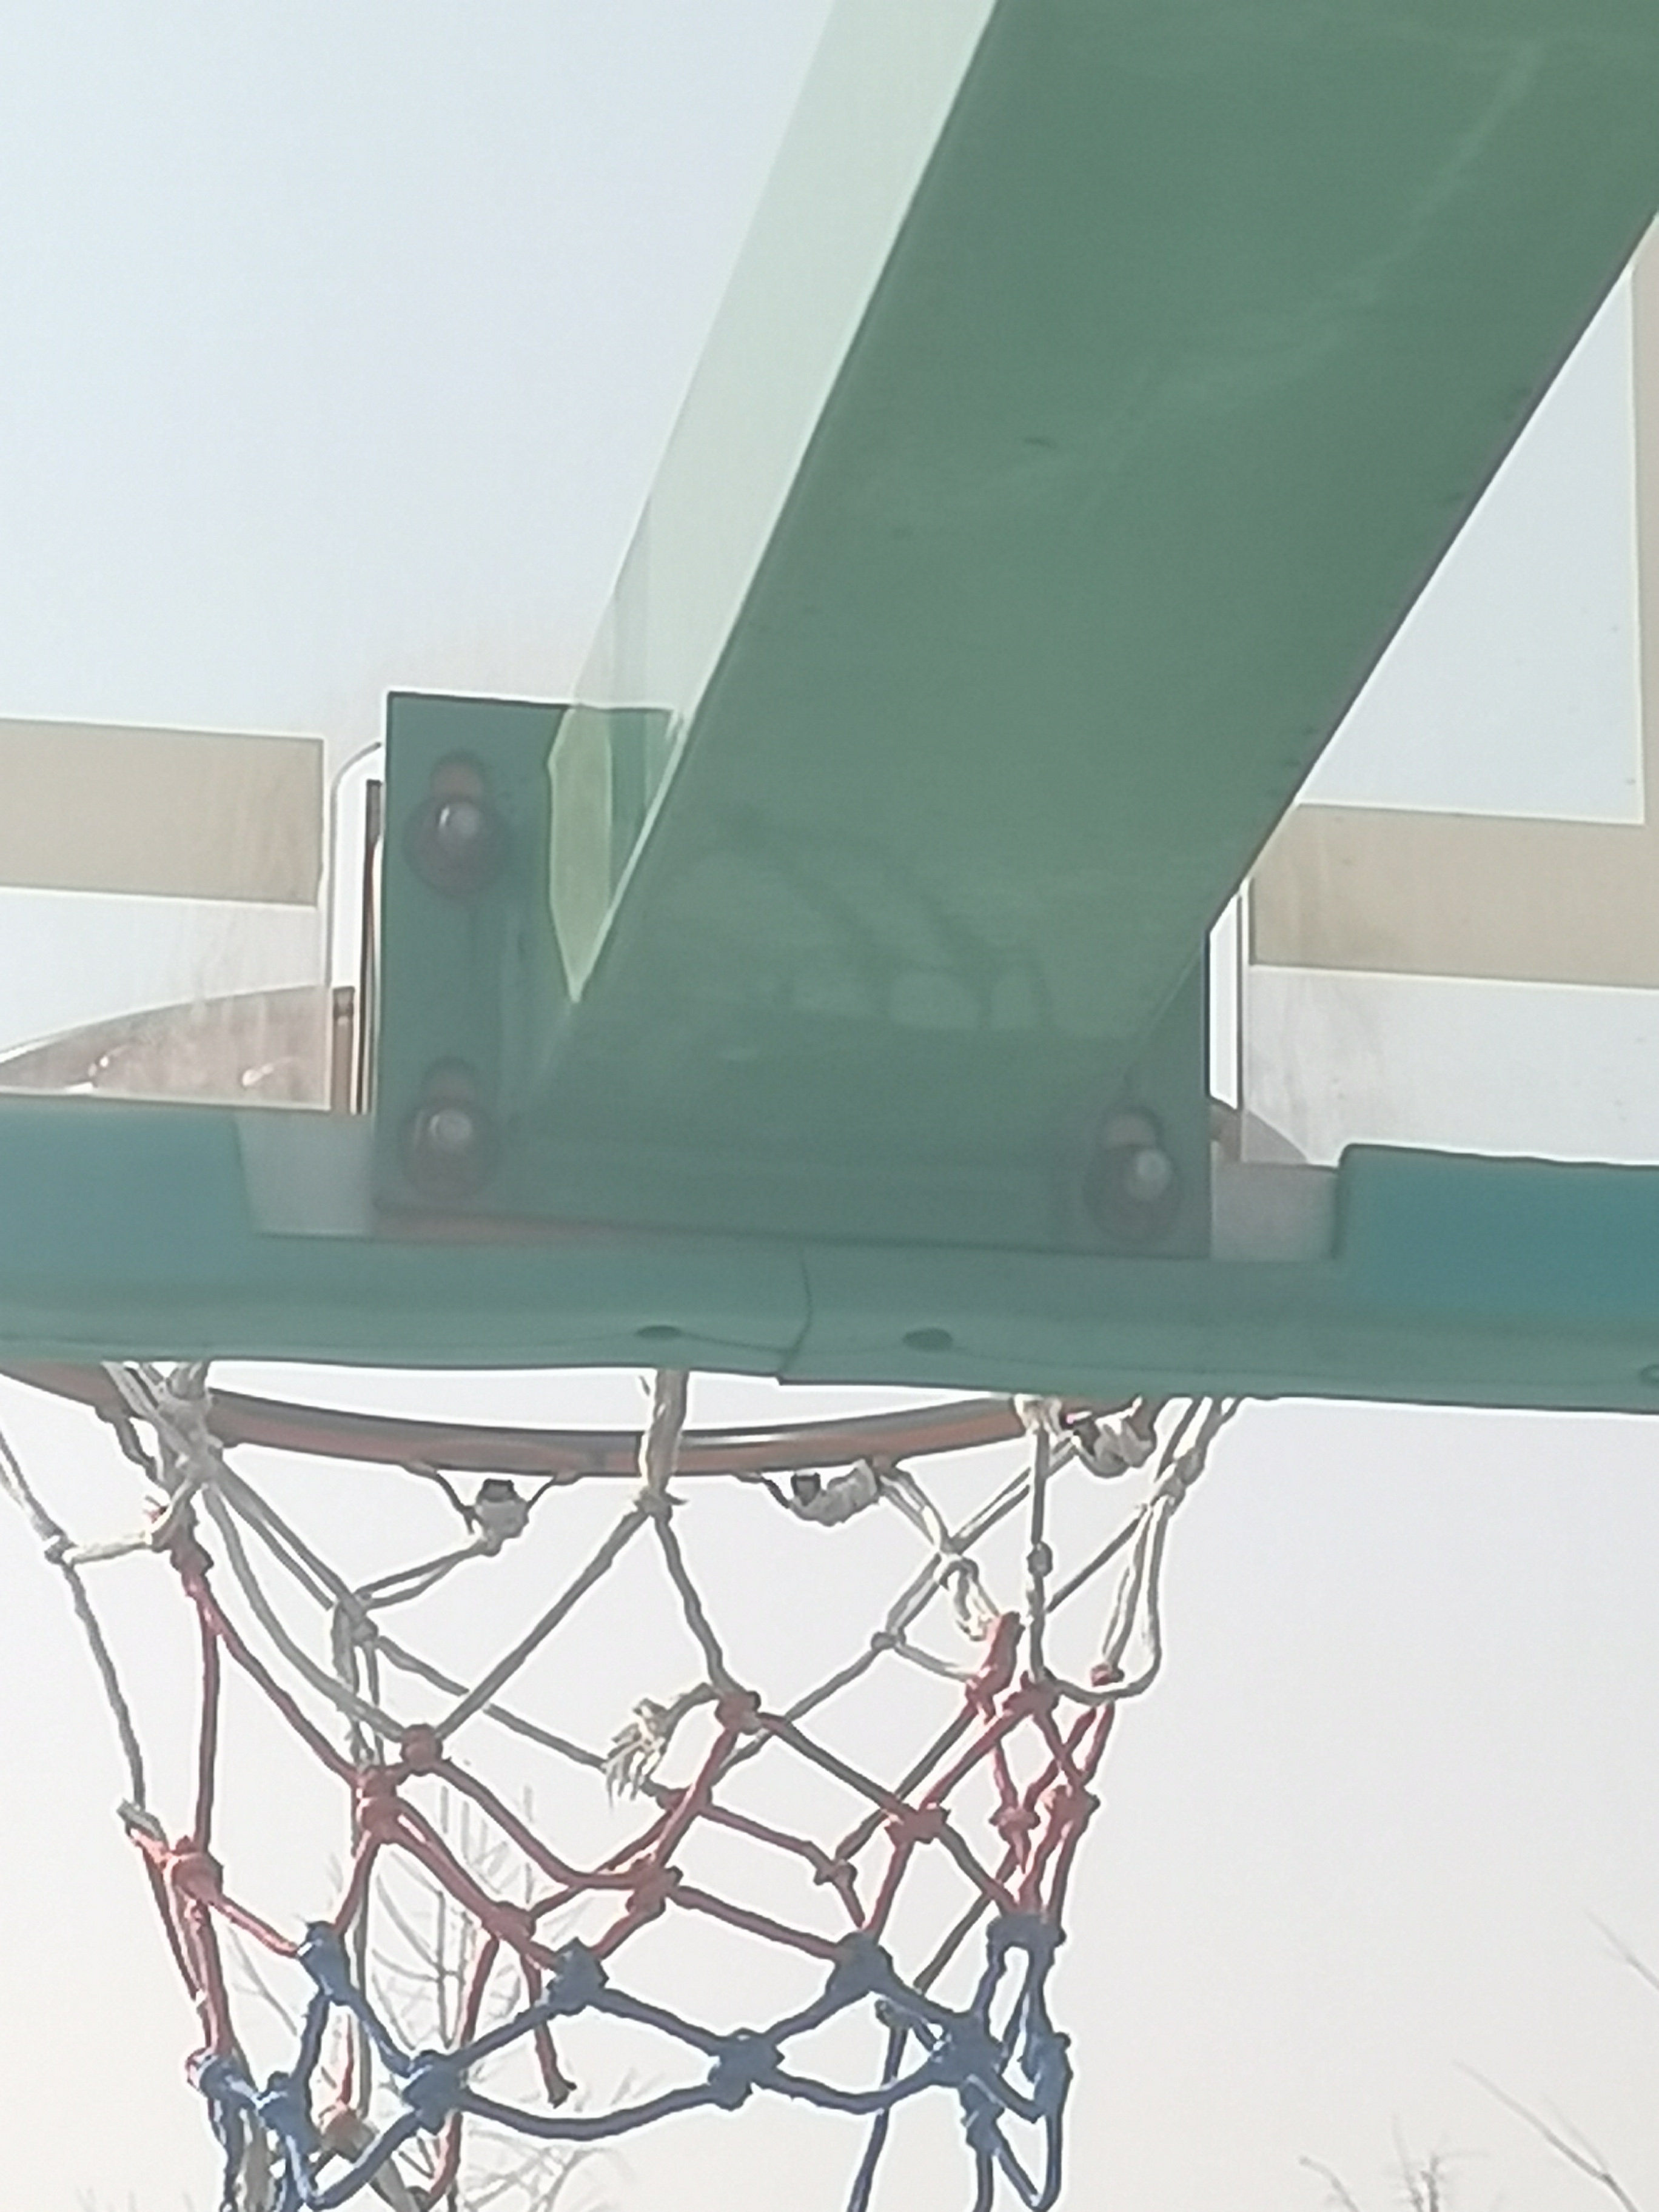vague: (1089, 1139, 1197, 1245), (397, 1089, 504, 1193), (410, 787, 514, 883)
